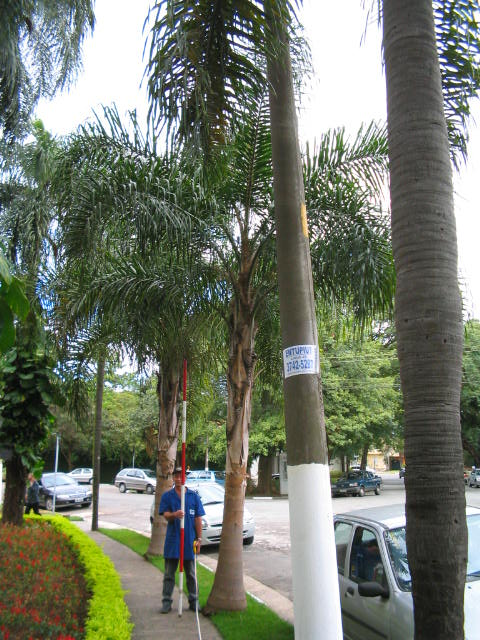stem: (205, 372, 274, 614)
stick: (177, 361, 187, 619)
tree: (43, 1, 413, 615)
